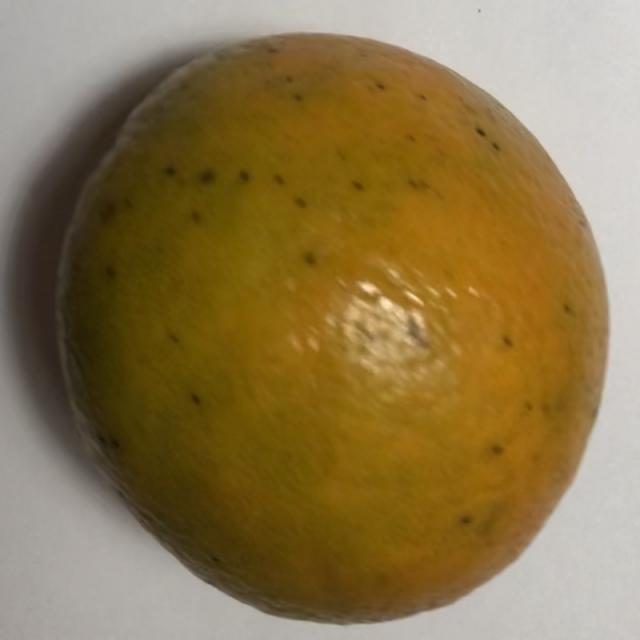blackspot: (42, 6, 617, 634)
